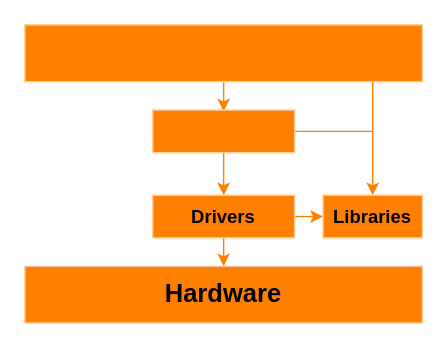
Image size: 447x348. Some labels were removed from this diagram. Each missing label, with the centre of its shape:
"Application" belongs at (222,52).
"Modules" belongs at (223,131).
